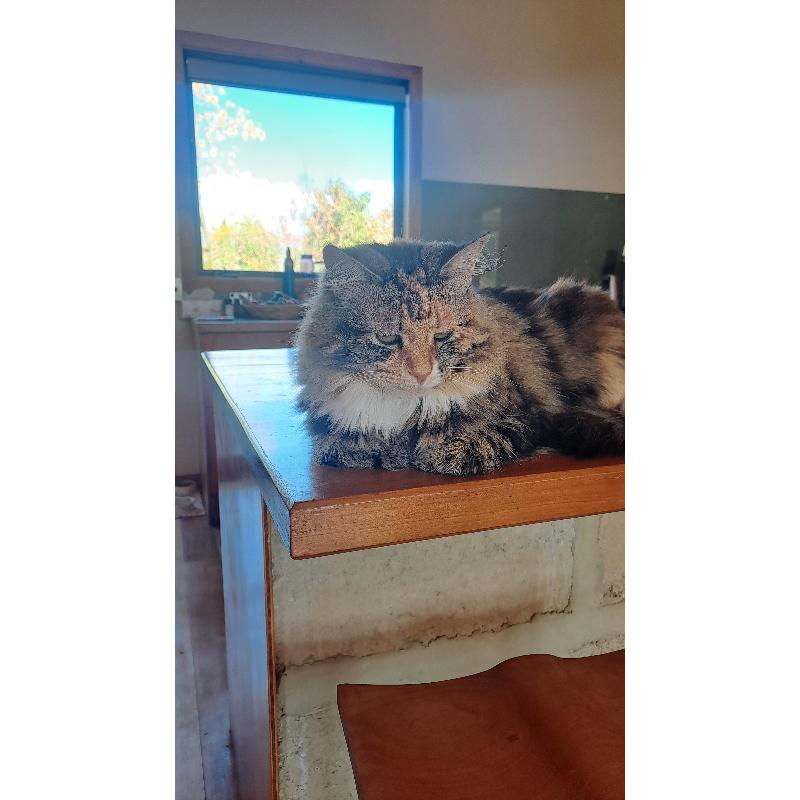red: (289, 231, 625, 475)
